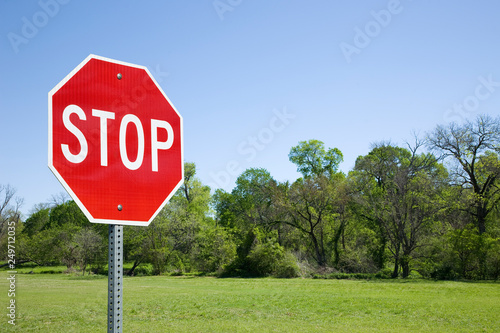StopSign: (47, 53, 184, 226)
